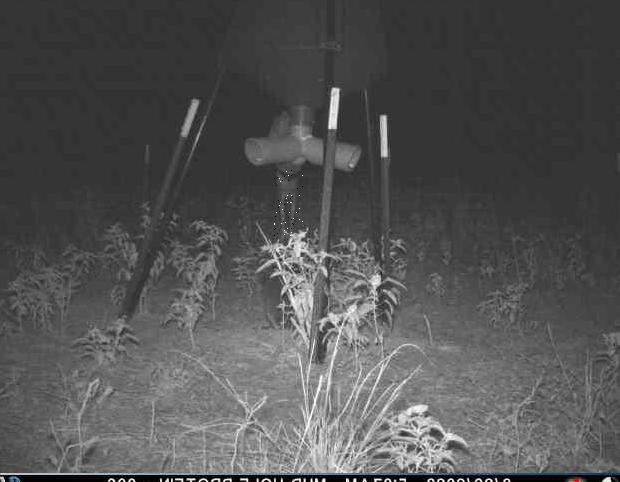Deer: (274, 170, 303, 236)
